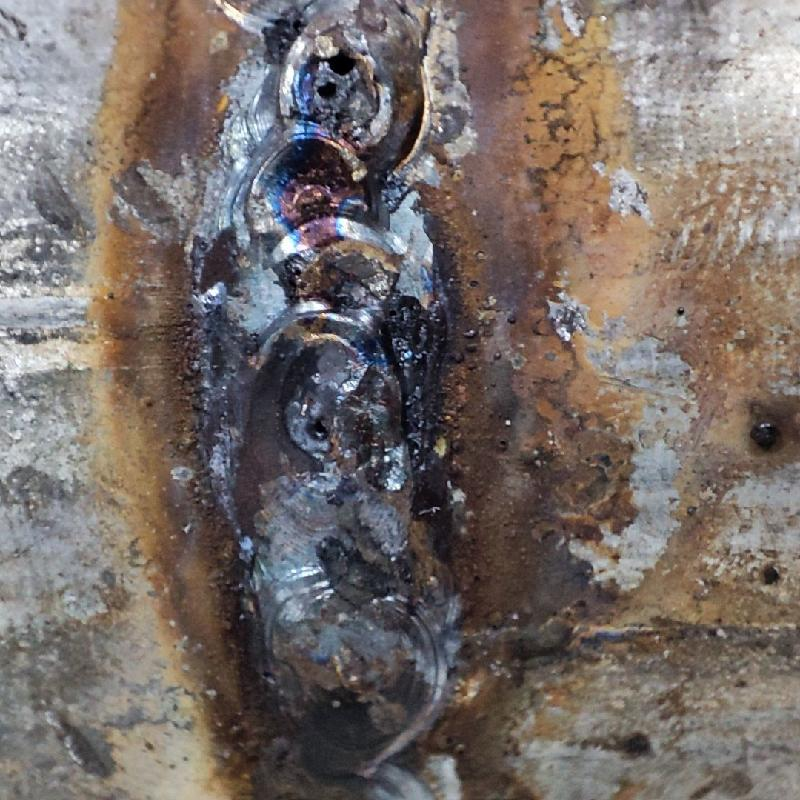Surface_pores: (301, 40, 368, 107)
crater: (240, 11, 419, 420)
wrong_size: (217, 419, 438, 794)
